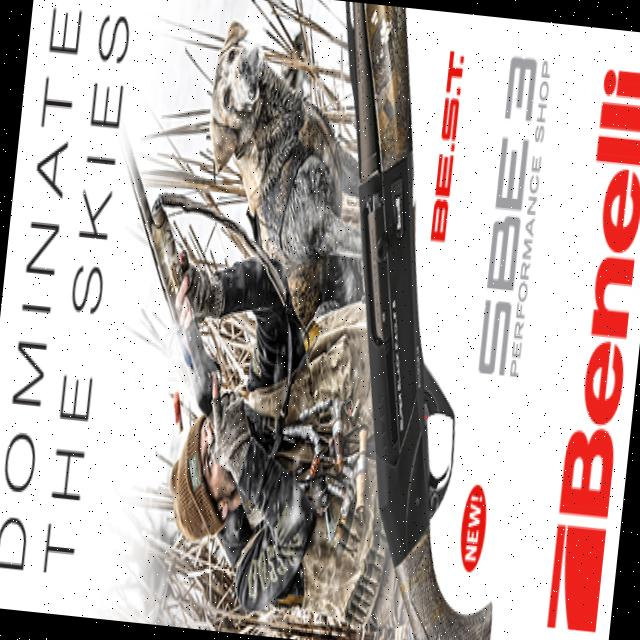Shotgun: (311, 4, 549, 640), (80, 108, 306, 513)
